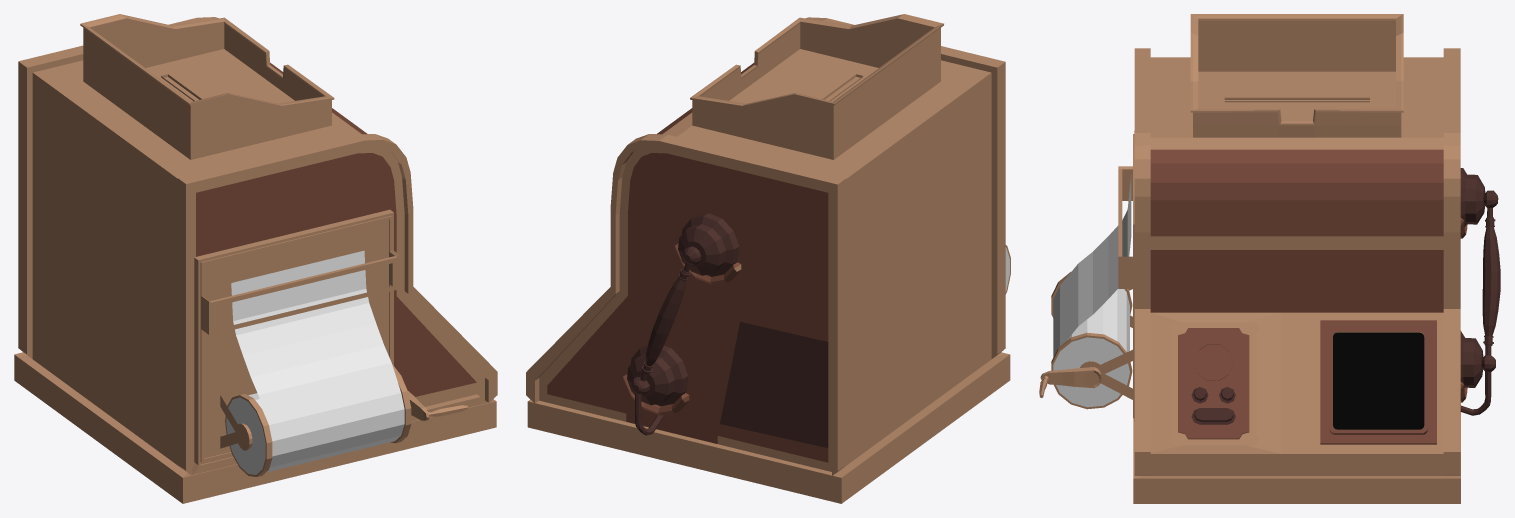
Rendered from fax3.fbx.
3 views of the same model, side by side, from view 1: azimuth 30°, elevation 25°; view 2: azimuth 150°, elevation 25°; view 3: azimuth 270°, elevation 25° (orthographic). The views are drawn at different scales.
Visible parts, largest first — view 1: Fax; view 2: Fax, telefone; view 3: Fax, telefone, botao3.
Boxes of the visible parts, x1=… form: Fax: x1=14, y1=14, x2=497, y2=503; Fax: x1=526, y1=14, x2=1010, y2=503; telefone: x1=627, y1=213, x2=739, y2=435; Fax: x1=1039, y1=14, x2=1467, y2=503; telefone: x1=1460, y1=168, x2=1500, y2=415; botao3: x1=1191, y1=408, x2=1235, y2=424.
Size of the model in its own units: 210 by 234 by 273.
